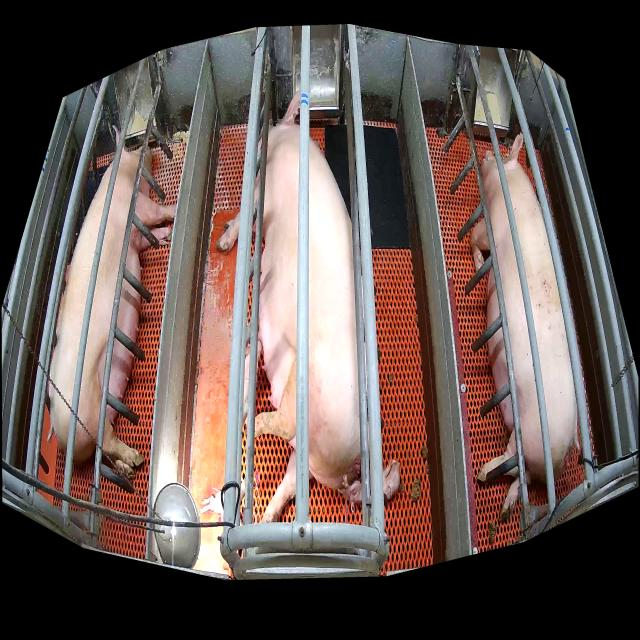pig: (218, 92, 362, 524), (48, 125, 176, 479), (471, 130, 580, 519), (345, 459, 400, 500), (244, 341, 262, 422), (200, 486, 224, 515)
